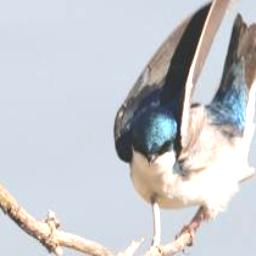Swallow: (112, 0, 256, 255)
